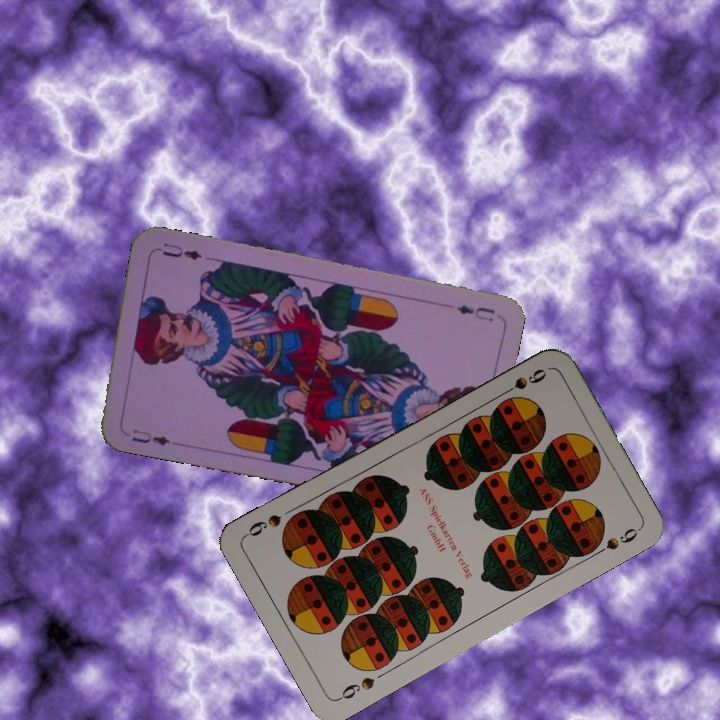EU: (452, 300, 498, 324), (127, 425, 173, 448)
S9: (495, 364, 549, 400), (334, 672, 377, 704)
